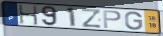1: (65, 7, 77, 27)
9: (41, 5, 59, 27)
G: (124, 11, 144, 31)
H: (18, 4, 40, 26)
P: (102, 9, 122, 29)
Z: (81, 8, 103, 29)
